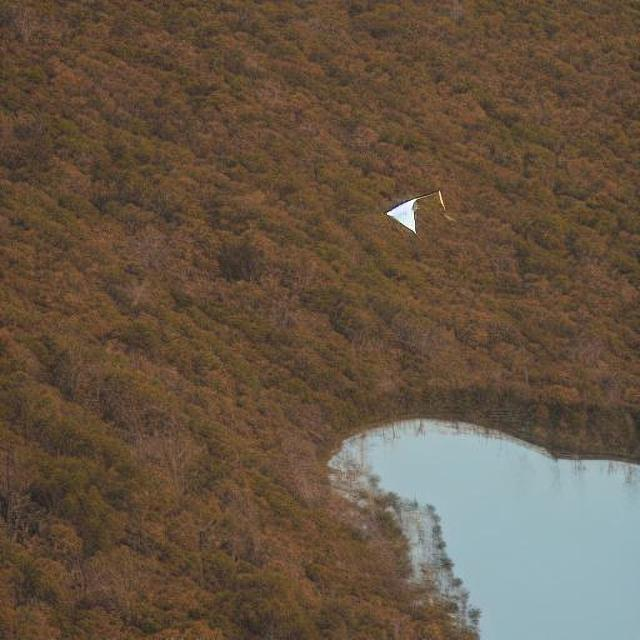floating object: (382, 190, 448, 238)
